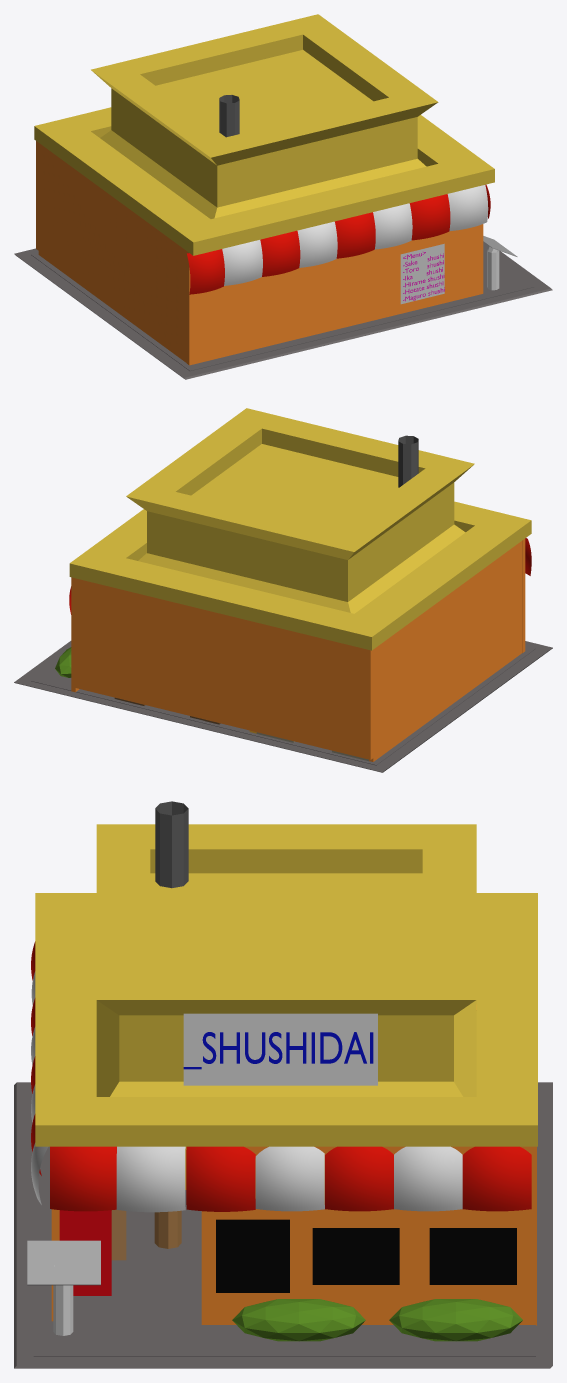
The model's file is Shushi.glb.
3 renders of one model, top to bottom at view 1: azimuth 30°, elevation 25°; view 2: azimuth 150°, elevation 25°; view 3: azimuth 270°, elevation 25°, orthographic. The views are drawn at different scales.
Parts seen in each view (by area): view 1: Plane.013, Cube.002, Cube, Plane, Plane.016, SurfPatch.010, SurfPatch.008, SurfPatch.007, SurfPatch.013, SurfPatch.012, SurfPatch.011, SurfPatch.009 (+4 smaller); view 2: Plane.013, Cube.001, Cube, Plane, Cylinder.011, Cube.013, Cube.002; view 3: Plane.013, Plane, Cube.013, Plane.023, Plane.024, Plane.014, Plane.015, SurfPatch.005, SurfPatch.004, Icosphere.001, Icosphere, SurfPatch (+11 smaller).
Part boxes in pixels (x1,y1,x2,y2): Plane.013: (34, 14, 494, 255); Cube.002: (186, 224, 483, 365); Cube: (38, 143, 186, 362); Plane: (14, 242, 552, 379); Plane.016: (400, 243, 444, 304); SurfPatch.010: (335, 212, 375, 258); SurfPatch.008: (409, 194, 450, 240); SurfPatch.007: (447, 185, 488, 231); SurfPatch.013: (222, 240, 262, 285); SurfPatch.012: (260, 230, 300, 276); SurfPatch.011: (297, 221, 337, 267); SurfPatch.009: (373, 203, 412, 249); Plane.013: (69, 408, 531, 650); Cube.001: (75, 578, 373, 759); Cube: (369, 541, 522, 761); Plane: (14, 641, 552, 772); Cylinder.011: (398, 435, 418, 487); Cube.013: (71, 577, 79, 692); Cube.002: (522, 538, 525, 652); Plane.013: (35, 824, 537, 1146); Plane: (14, 1082, 552, 1368); Cube.013: (201, 1146, 536, 1325); Plane.023: (183, 1013, 377, 1085); Plane.024: (216, 1219, 289, 1292); Plane.014: (312, 1228, 399, 1284); Plane.015: (429, 1228, 516, 1284); SurfPatch.005: (116, 1146, 185, 1212); SurfPatch.004: (186, 1146, 255, 1211); Icosphere.001: (389, 1299, 522, 1341); Icosphere: (232, 1299, 365, 1341); SurfPatch: (462, 1146, 531, 1211).
Bounding box in the file's own units: 10.02 × 5.75 × 8.04.
